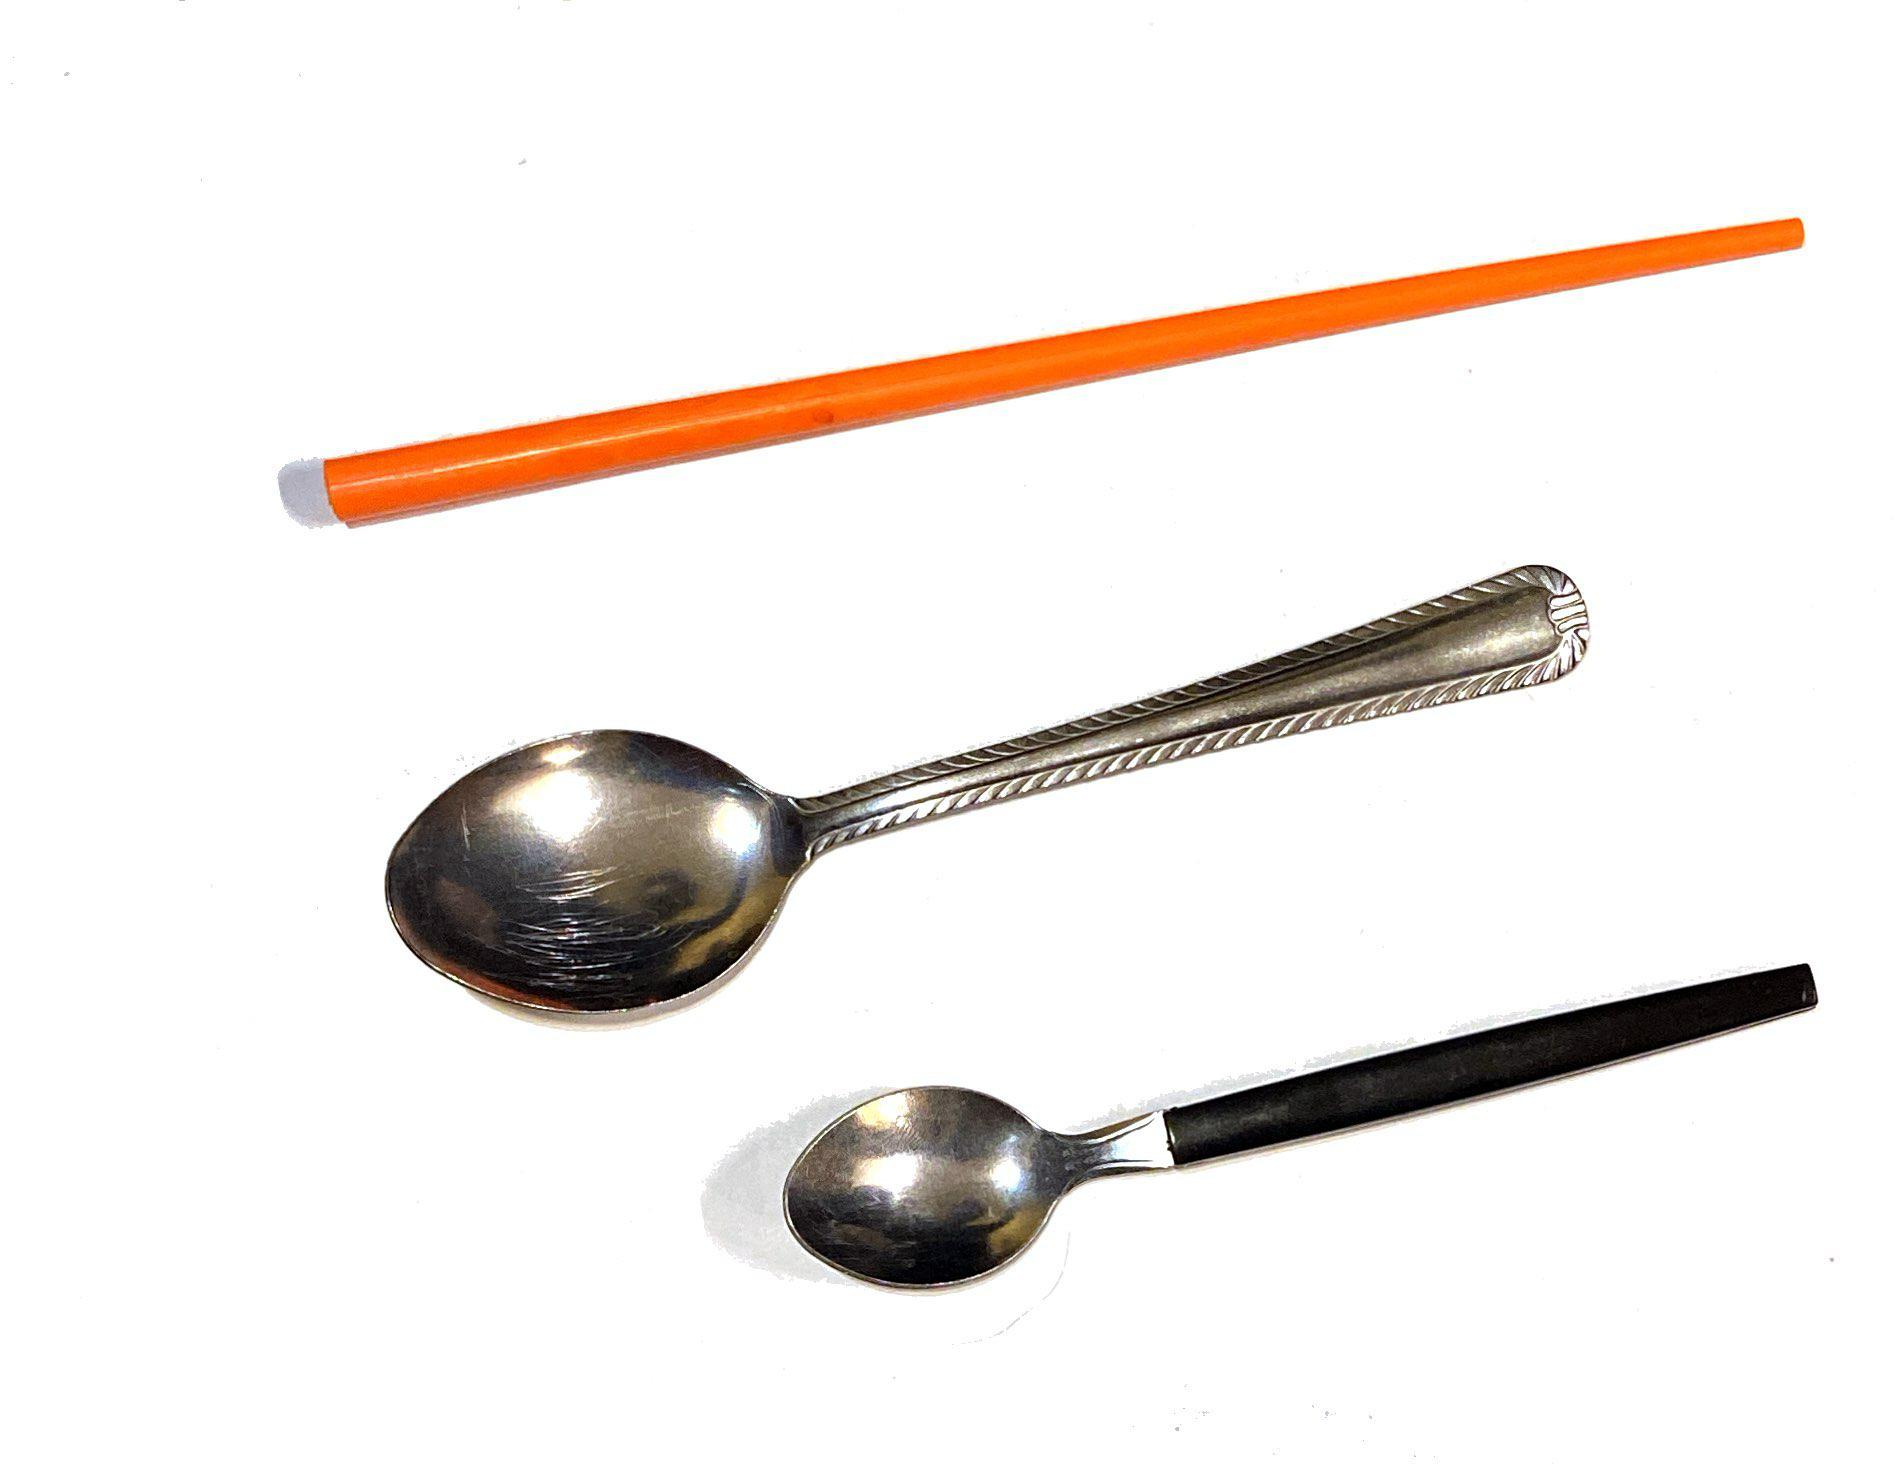Chopstick: (225, 168, 1844, 563)
Spoon: (366, 491, 1629, 1027), (757, 912, 1832, 1343)
